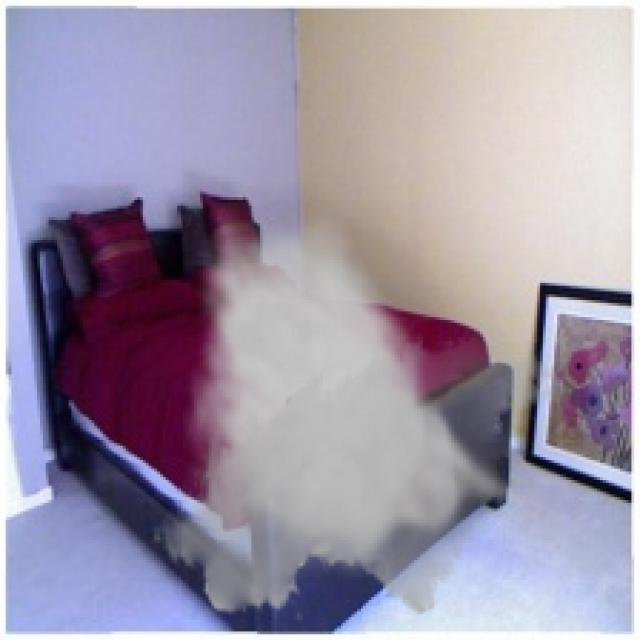smoke: (151, 203, 563, 626)
